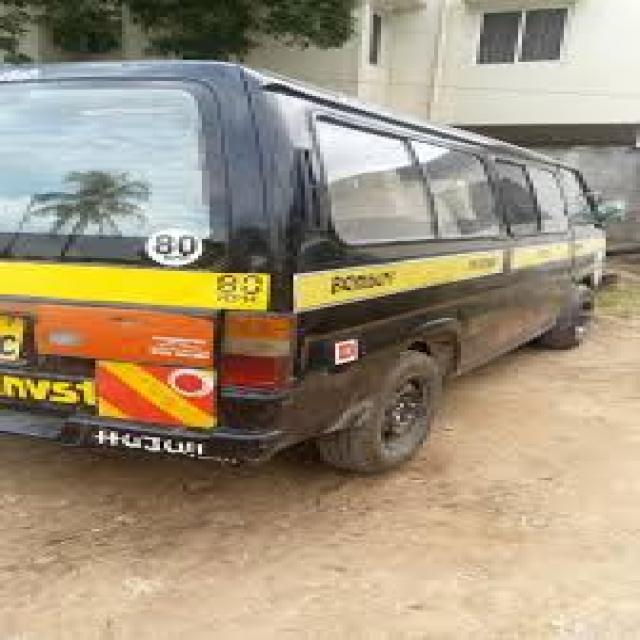matatu: (0, 15, 640, 533)
